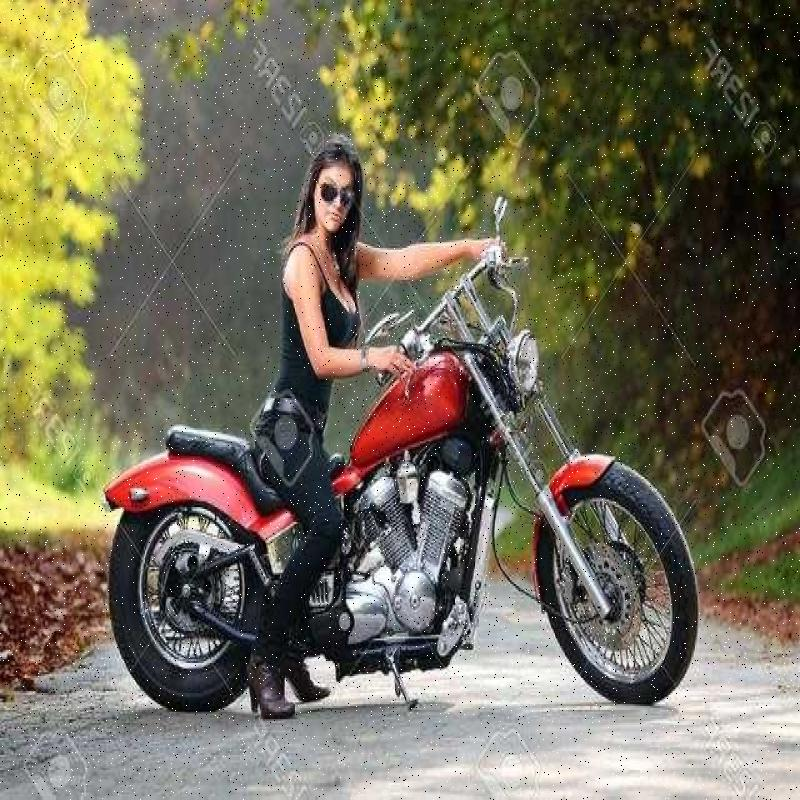bike: (110, 206, 678, 736)
